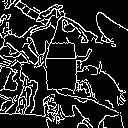cube: (41, 40, 82, 91)
